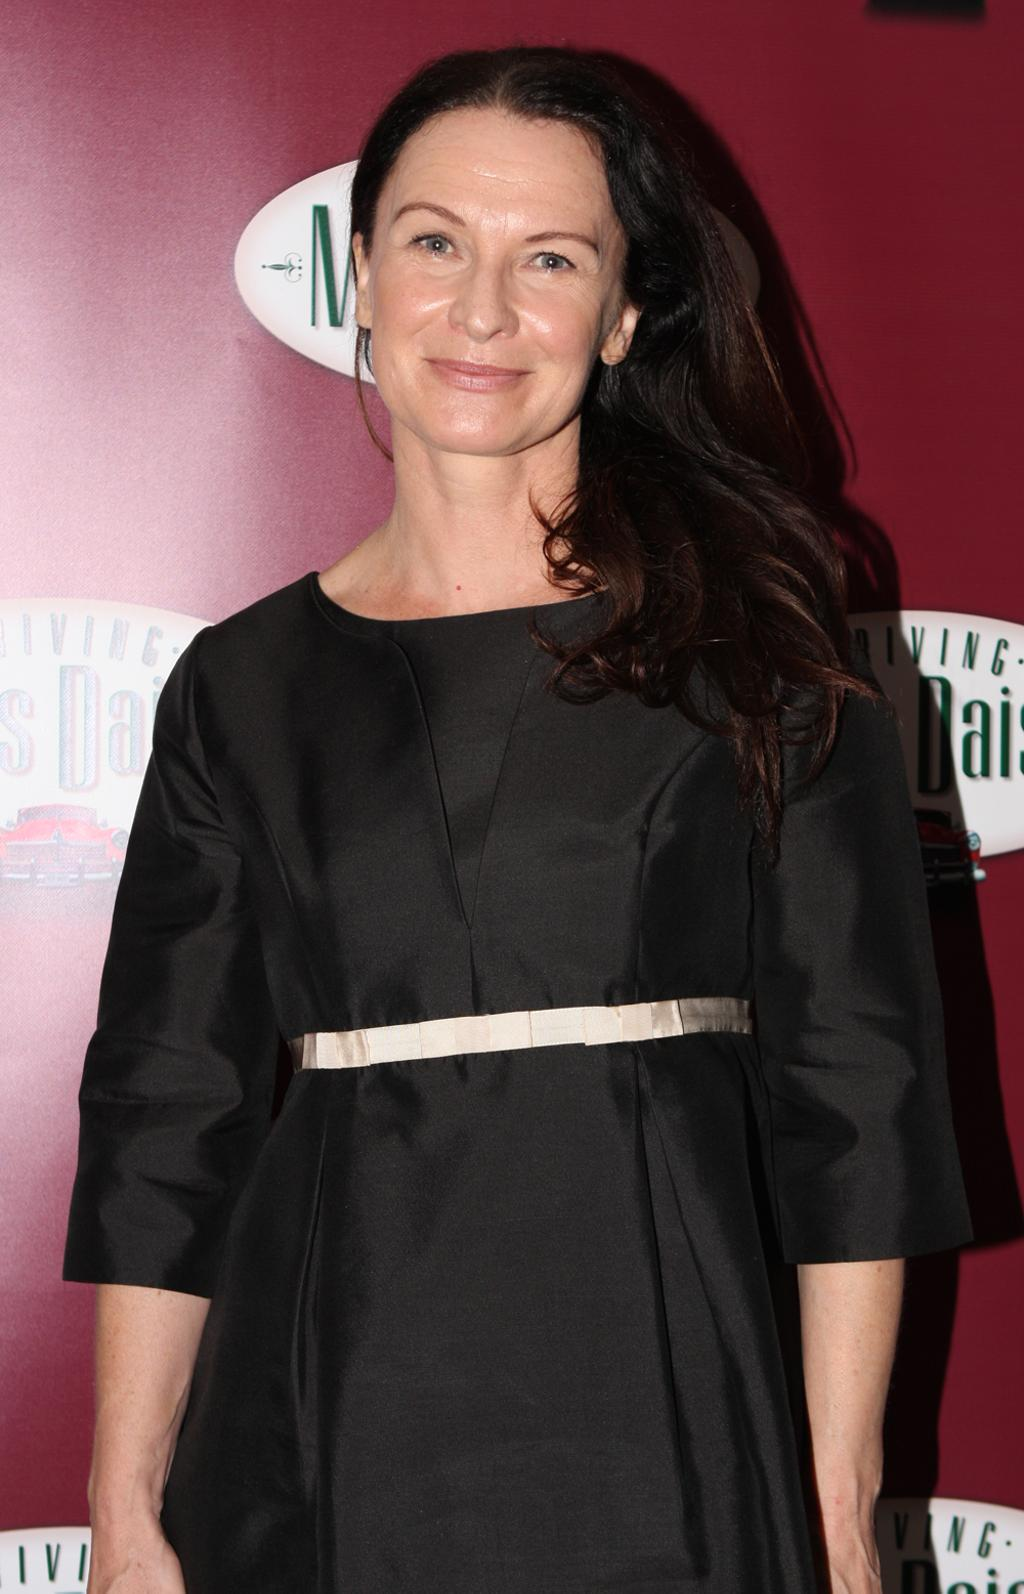face: (370, 109, 619, 448)
